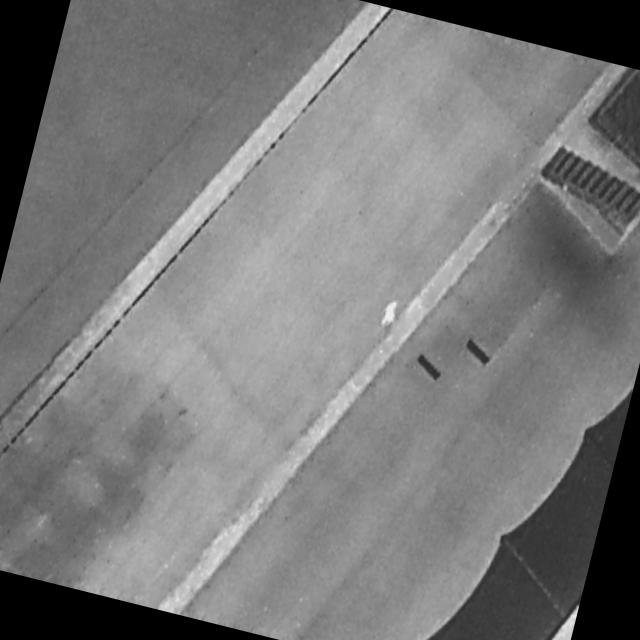person: (377, 297, 403, 332)
